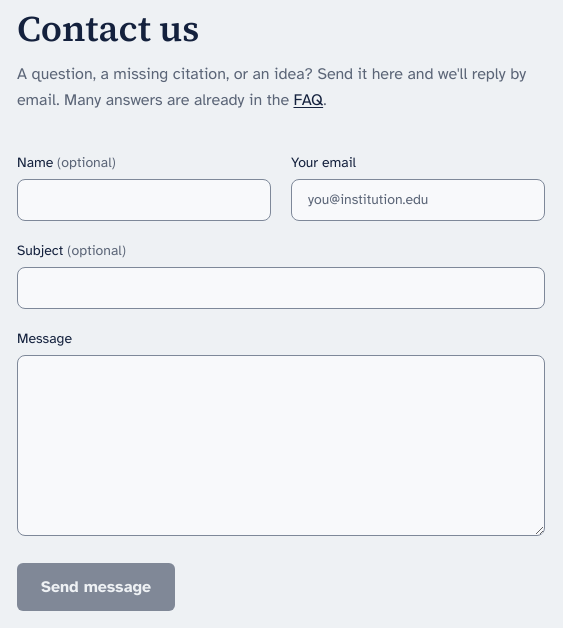
Contact page › sends the message and confirms where the reply goes
Type "ada@uni.edu" into the field labelled "Your email" at (418, 200), box x1=291 y1=179 x2=545 y2=221
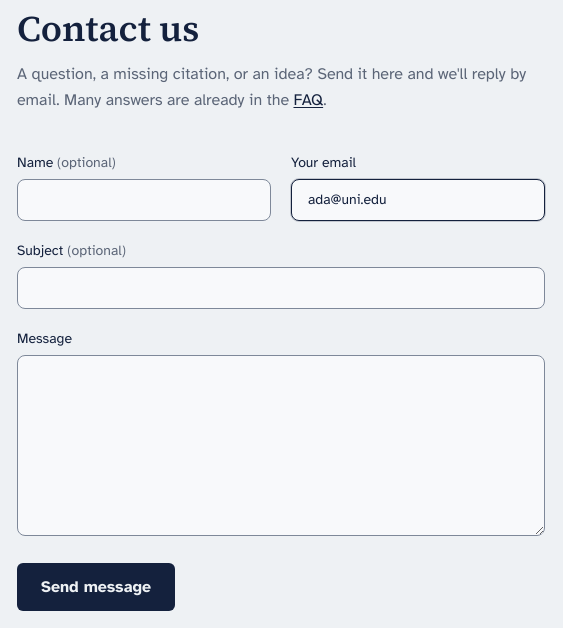
Type "  My paper's citations look wrong.  " into the text box labelled "Message" at (281, 446), box x1=17 y1=355 x2=545 y2=536
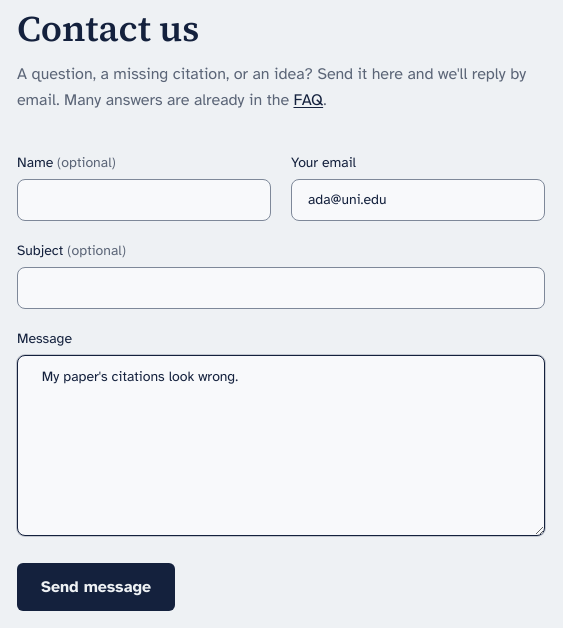
Click the button "Send message" at (96, 587), box x1=17 y1=563 x2=175 y2=611
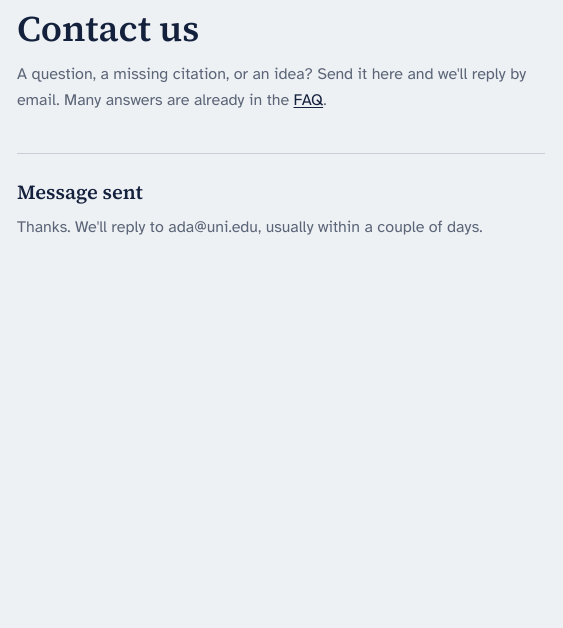
Check: the message shows "We'll reply to ada@uni.edu", box x1=17 y1=153 x2=545 y2=240
